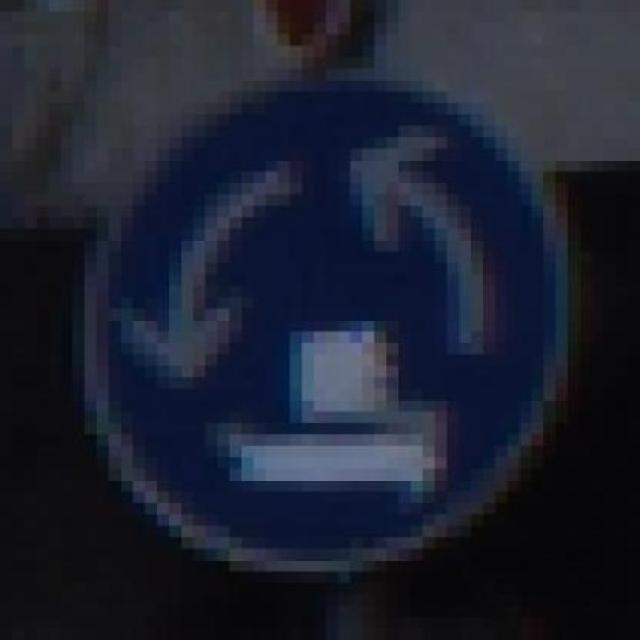Round-About: (49, 34, 616, 583)
